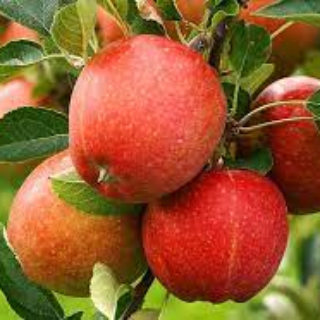tao: (66, 30, 230, 207), (144, 163, 295, 308)
